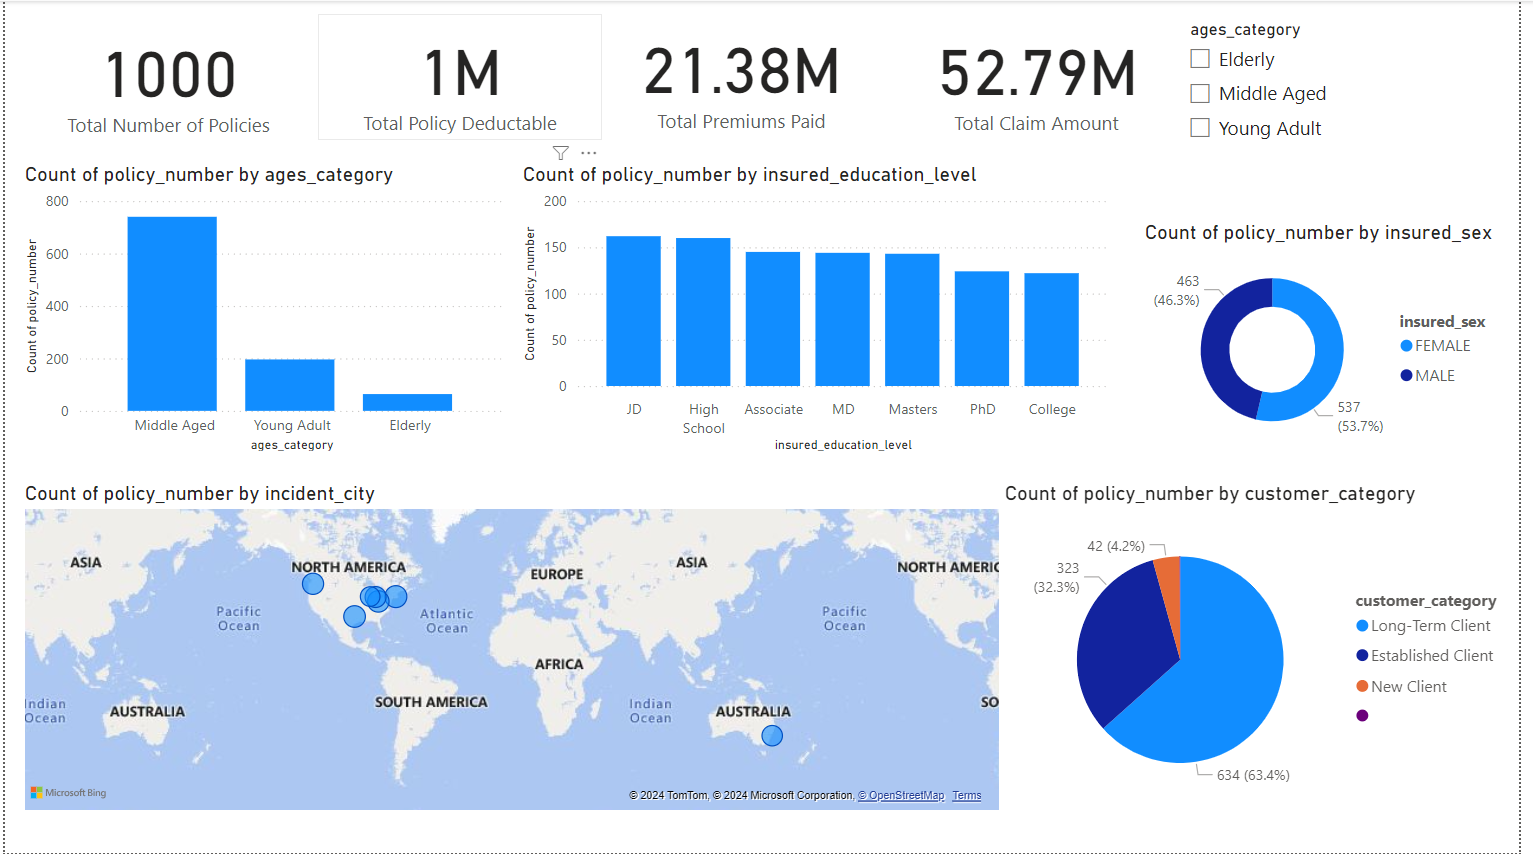

Layout of this report page (visuals, bound fields, positions):
{"tool":"powerbi","page":{"name":"Customer Demographics & Policy Attributes","canvas":[1280,720],"ordinal":0},"visuals":[{"type":"columnChart","fields":{"Category":["advanced_features_claims_data.ages_category"],"Y":["Count(advanced_features_claims_data.policy_number)"]},"box":[11.8,136.1,414.9,249.3],"z":0},{"type":"donutChart","fields":{"Category":["advanced_features_claims_data.insured_sex"],"Y":["Count(advanced_features_claims_data.policy_number)"]},"box":[958.3,185.1,315.2,200.3],"z":1000},{"type":"columnChart","fields":{"Category":["advanced_features_claims_data.insured_education_level"],"Y":["Count(advanced_features_claims_data.policy_number)"]},"box":[432.7,136.1,504.5,249.3],"z":2000},{"type":"map","fields":{"Category":["advanced_features_claims_data.incident_city"],"Size":["CountNonNull(advanced_features_claims_data.policy_number)"]},"box":[11.8,405.6,909.3,283.1],"z":3000},{"type":"card","fields":{"Values":["CountNonNull(advanced_features_claims_data.policy_number)"]},"box":[11.8,12.7,252.7,106.5],"z":4000},{"type":"pieChart","fields":{"Category":["advanced_features_claims_data.customer_category"],"Y":["Count(advanced_features_claims_data.policy_number)"]},"box":[958.3,434.4,315.2,254.4],"z":5000},{"type":"card","fields":{"Values":["Sum(advanced_features_claims_data.total_premiums_paid)"]},"box":[498.6,7.6,247.6,109.9],"z":6000},{"type":"card","fields":{"Values":["Sum(advanced_features_claims_data.total_claim_amount)"]},"box":[746.2,9.3,251,109.9],"z":7000},{"type":"card","fields":{"Values":["Sum(advanced_features_claims_data.policy_deductable)"]},"box":[264.5,11,240,106.5],"z":8000},{"type":"slicer","fields":{"Values":["advanced_features_claims_data.ages_category"]},"box":[988.7,11,275.5,147.9],"z":9000}]}

Visuals, with their boxes in screenshot pixels (x1, y1, x2, y2), scaled from the page's 1280x720 canvas onto the 1533x854 screenshot:
columnChart - advanced_features_claims_data.ages_category x Count(advanced_features_claims_data.policy_number): (left=14, top=161, right=511, bottom=457)
donutChart - advanced_features_claims_data.insured_sex x Count(advanced_features_claims_data.policy_number): (left=1148, top=220, right=1525, bottom=457)
columnChart - advanced_features_claims_data.insured_education_level x Count(advanced_features_claims_data.policy_number): (left=518, top=161, right=1122, bottom=457)
map - advanced_features_claims_data.incident_city x CountNonNull(advanced_features_claims_data.policy_number): (left=14, top=481, right=1103, bottom=817)
card - CountNonNull(advanced_features_claims_data.policy_number): (left=14, top=15, right=317, bottom=141)
pieChart - advanced_features_claims_data.customer_category x Count(advanced_features_claims_data.policy_number): (left=1148, top=515, right=1525, bottom=817)
card - Sum(advanced_features_claims_data.total_premiums_paid): (left=597, top=9, right=894, bottom=139)
card - Sum(advanced_features_claims_data.total_claim_amount): (left=894, top=11, right=1194, bottom=141)
card - Sum(advanced_features_claims_data.policy_deductable): (left=317, top=13, right=604, bottom=139)
slicer - advanced_features_claims_data.ages_category: (left=1184, top=13, right=1514, bottom=188)
